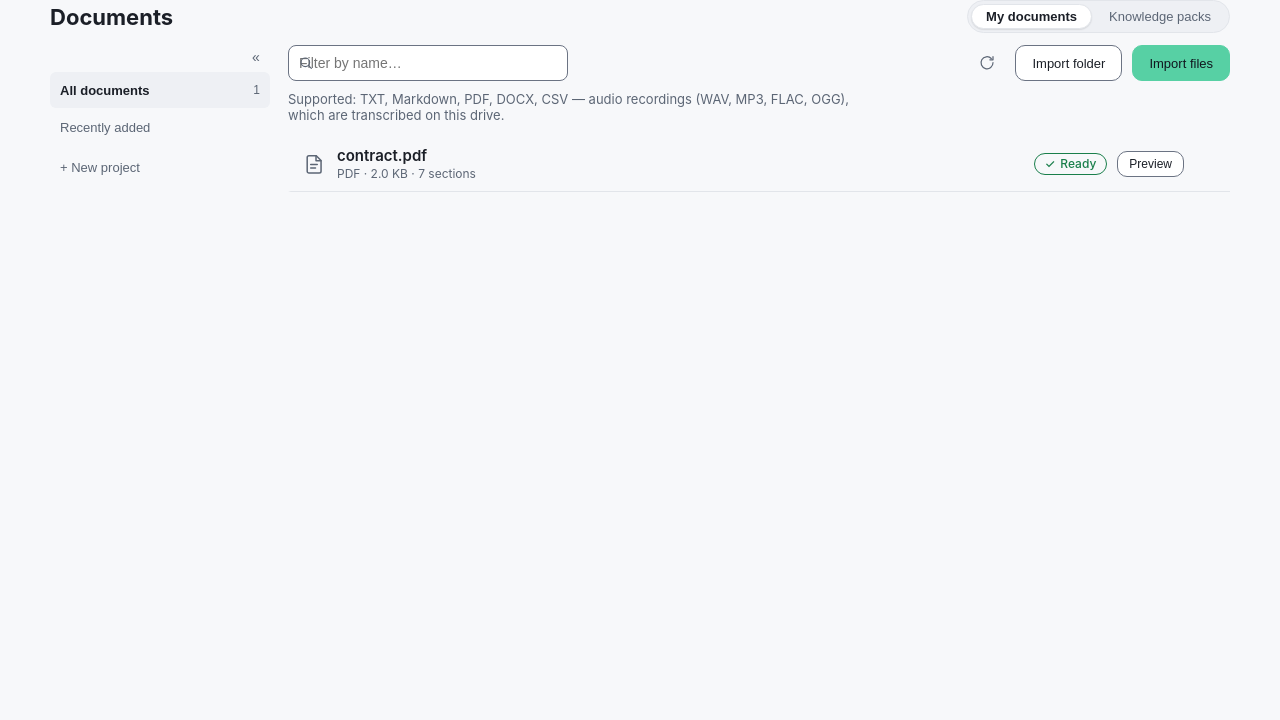
Test: DocumentsScreen › paginates the preview: reveals the next page on "Show more" (FE-6)
Expected: the text "contract.pdf" is shown, [337,146,427,164]
Click the button "Preview".
click(1151, 164)  # box [1117,150,1184,176]
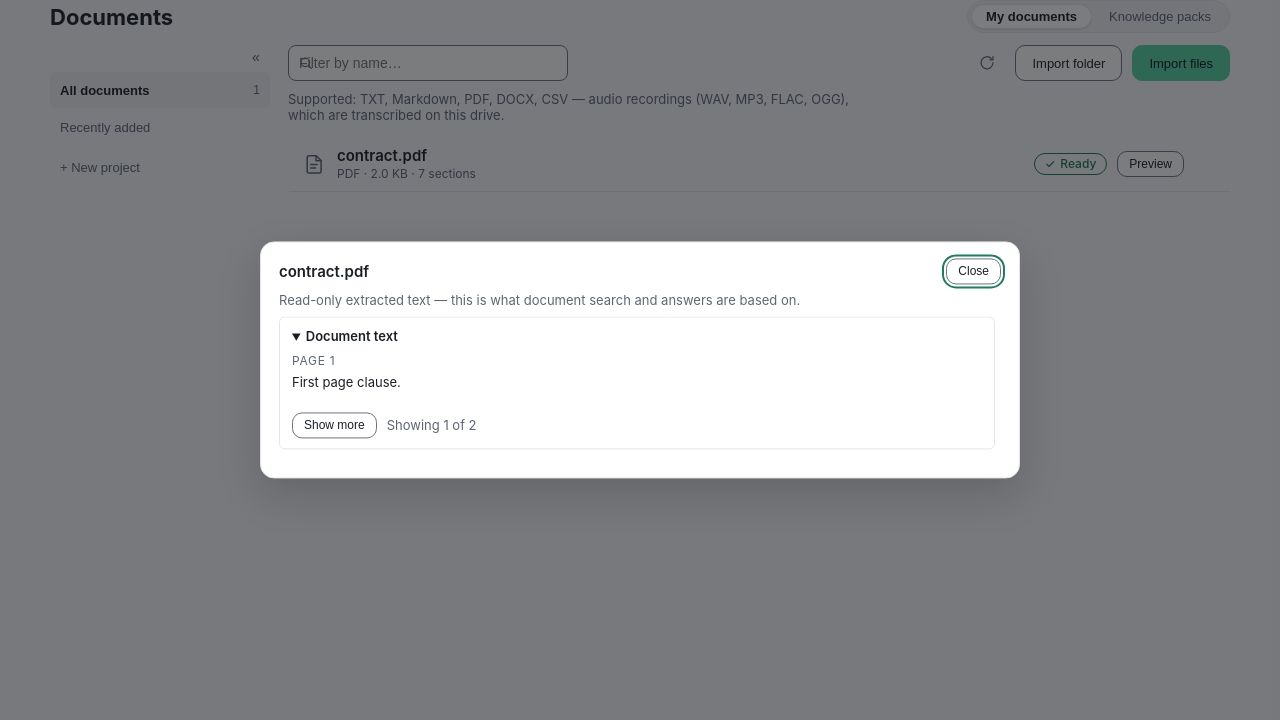
Expected: the text "Second page clause" is not shown
Now the text "First page clause." is shown, box [292,374,401,390]
Now the text "Showing 1 of 2" is shown, box [387,418,476,434]
Click the button "Show more".
click(334, 426)  # box [292,413,377,439]
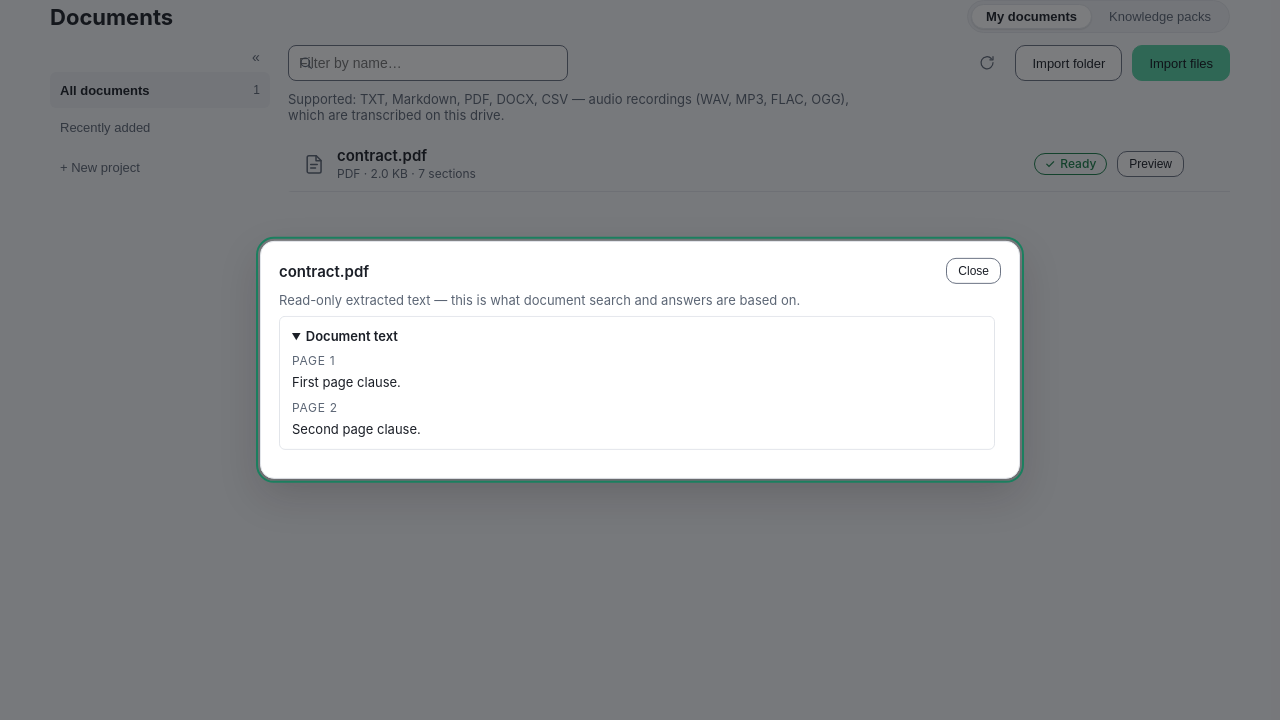
Now the text "First page clause." is shown, box [292,374,401,390]
Now the text "Second page clause." is shown, box [292,421,421,437]
Now the button "Show more" is gone
